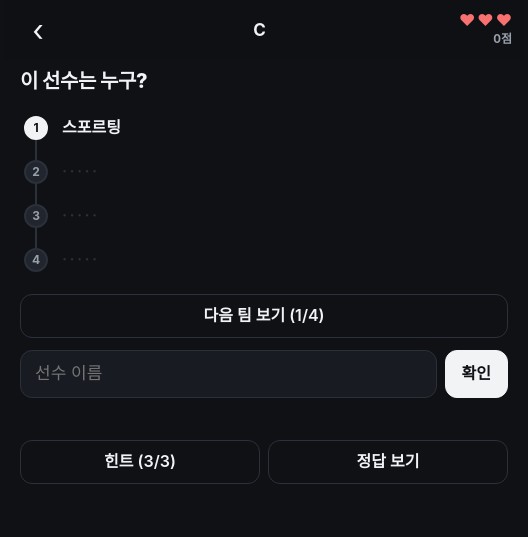
Scenario: CareerGame › 힌트 3단계: 글자 수 → 첫 초성 → 전체 초성
This screenshot has width=528, height=537.
Click the button "힌트 (3/3)": (140, 462) [20,440,260,484]
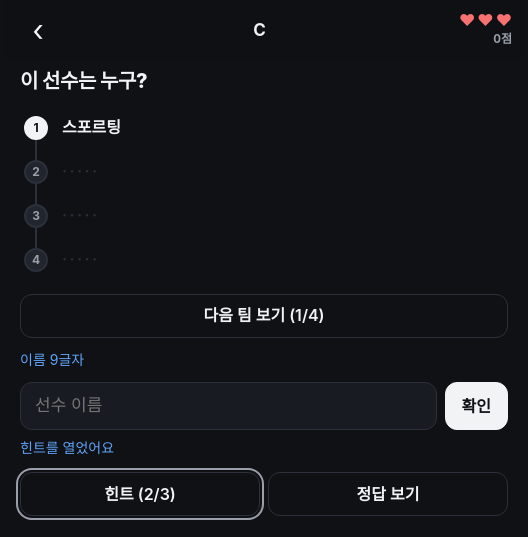
Expected: the text "이름 9글자" is shown, [20,351,84,368]
Click the button "힌트 (2/3)": (140, 494) [20,472,260,516]
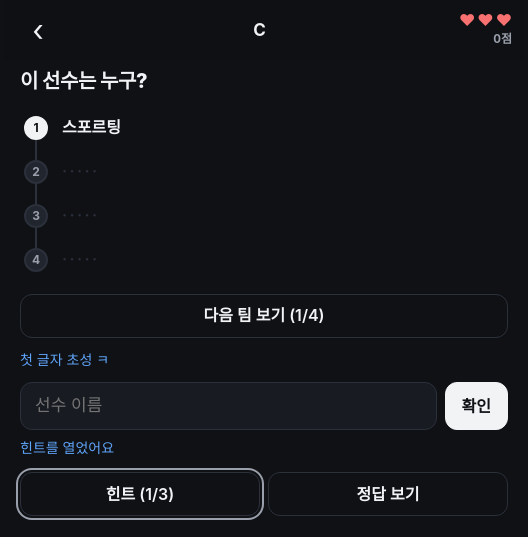
Expected: the text "첫 글자 초성 ㅋ" is shown, [20,351,109,368]
Click the button "힌트 (1/3)": (140, 494) [20,472,260,516]
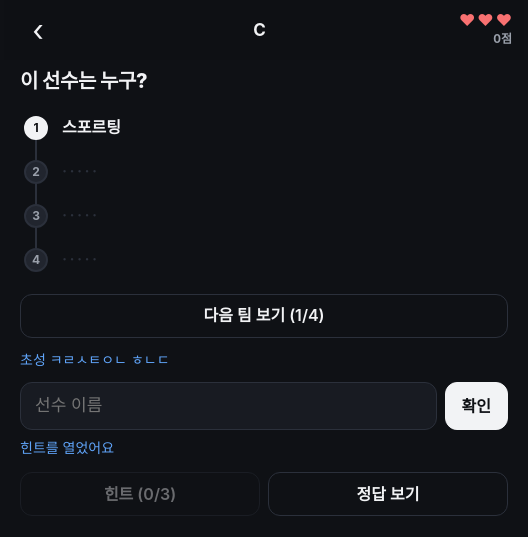
Expected: the text "초성 ㅋㄹㅅㅌㅇㄴ ㅎㄴㄷ" is shown, [20,351,170,368]
